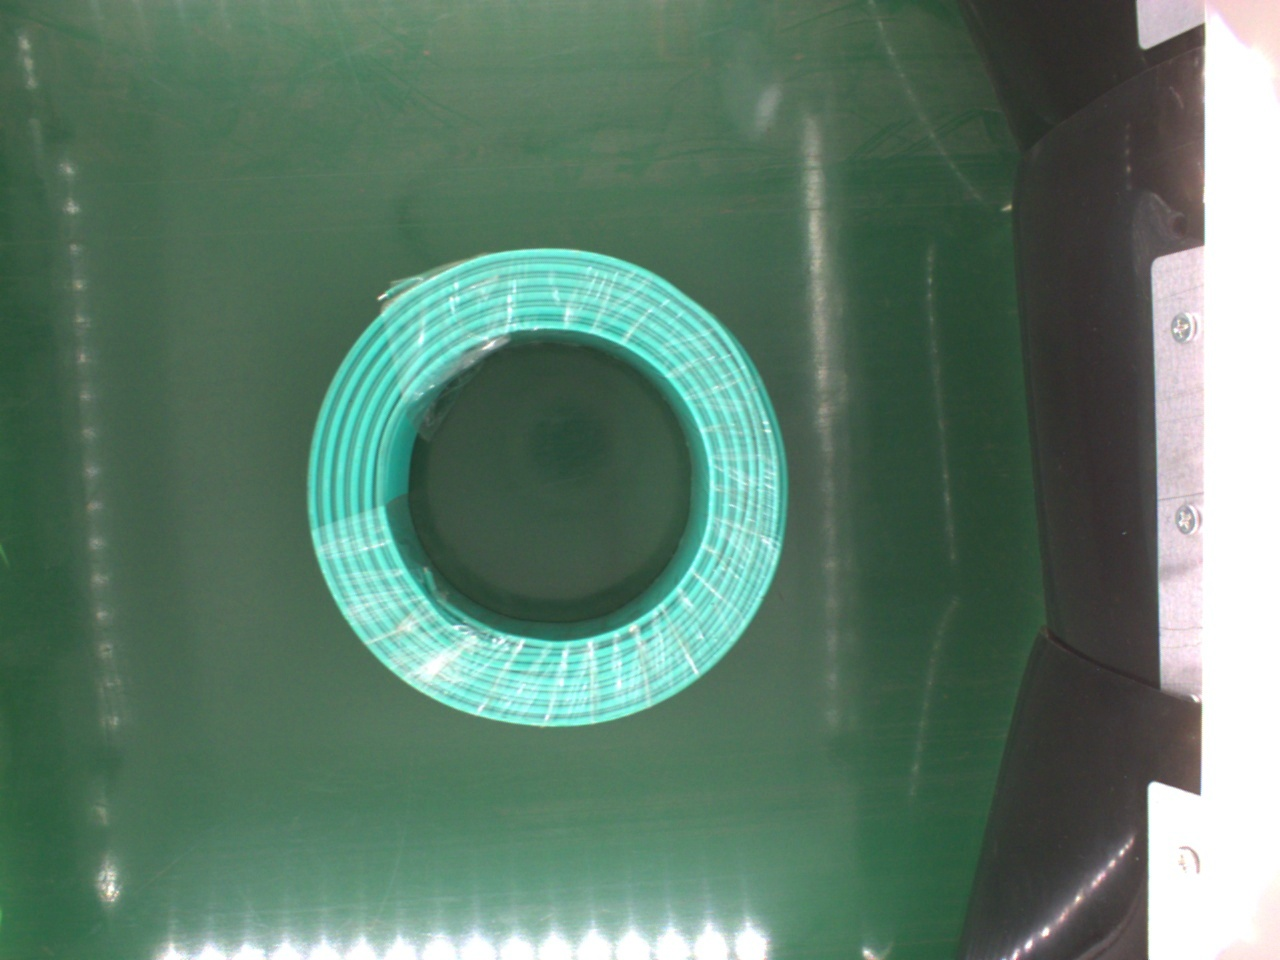green: (301, 249, 788, 724)
